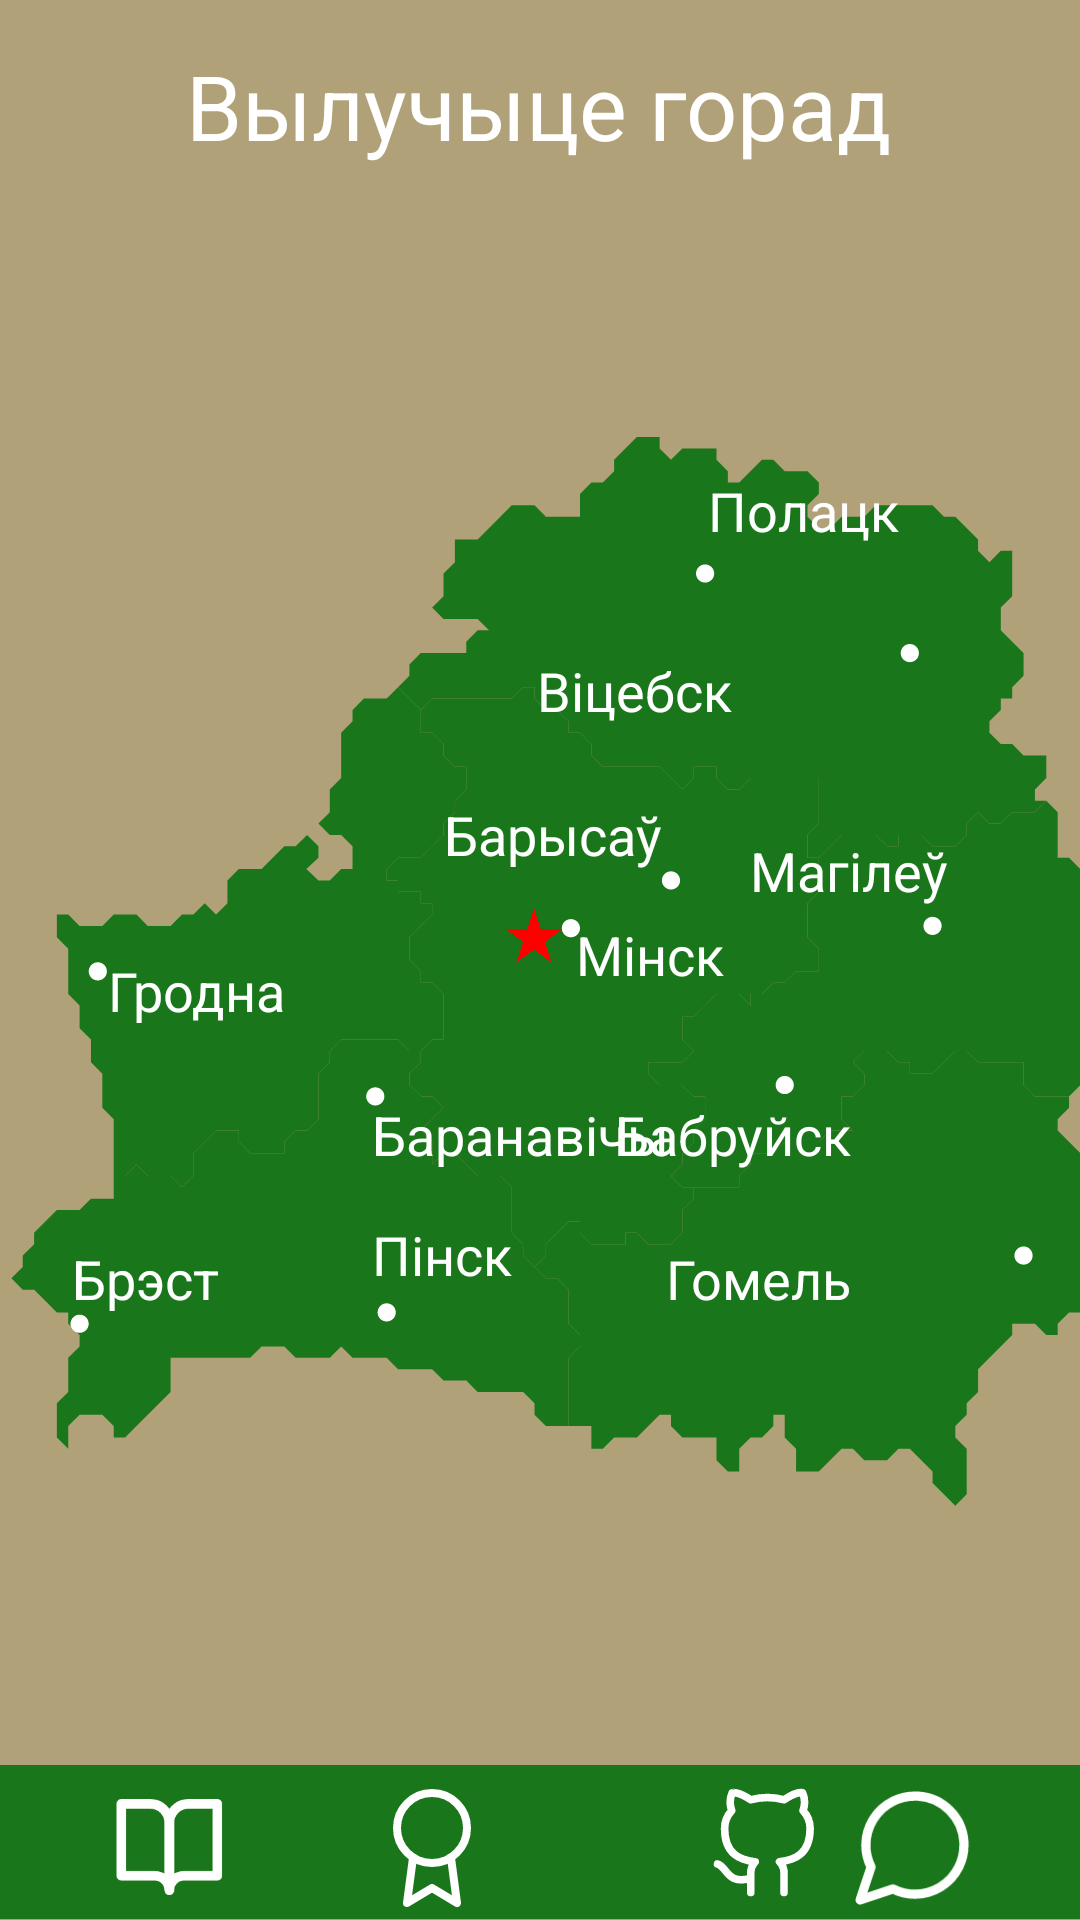

Where icons sit on this 1080x1920 app screen, as (x1, y1, x2, y2):
awardwhite: (393, 1789, 471, 1908)
book openwhite: (116, 1799, 222, 1895)
message circlewhite: (855, 1791, 969, 1905)
star: (506, 909, 564, 963)
